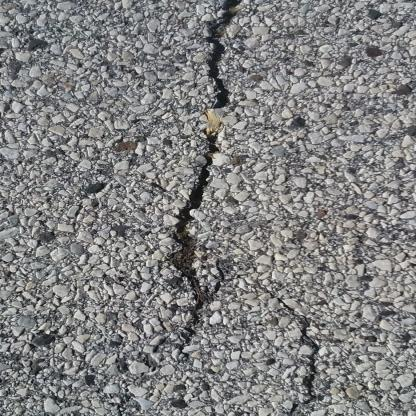Cracks: (172, 0, 271, 345), (254, 316, 323, 416)
